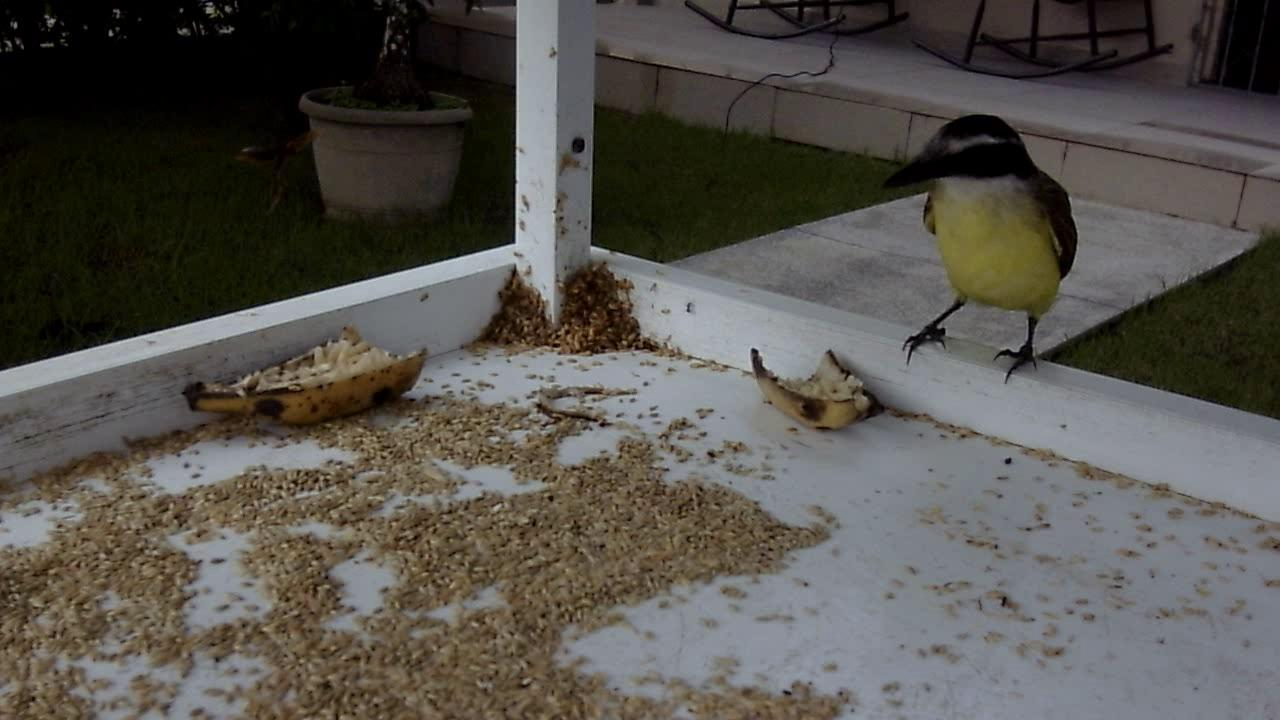bem_te_vi: (862, 100, 1098, 403)
